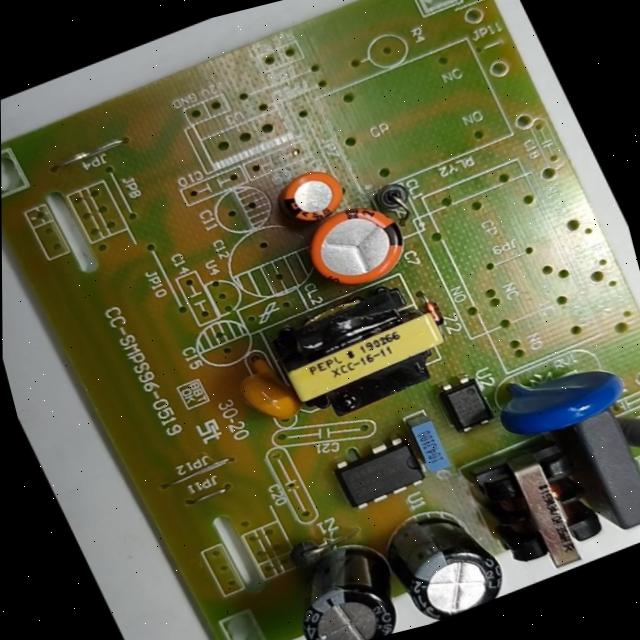Cap1: (289, 187, 427, 306)
Cap2: (264, 158, 363, 237)
Cap3: (372, 492, 520, 631)
Cap4: (267, 526, 419, 640)
MOSFET: (322, 426, 435, 520)
Mov: (481, 336, 640, 449)
Resistor: (614, 396, 640, 465)
Transformer: (257, 266, 470, 436), (456, 420, 623, 592)
